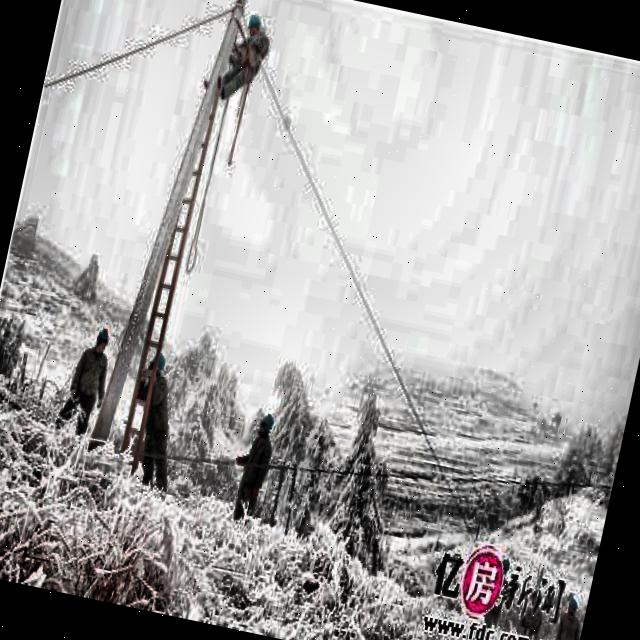helmet: (144, 351, 168, 389), (242, 8, 264, 46), (254, 410, 276, 442), (91, 322, 111, 356)
